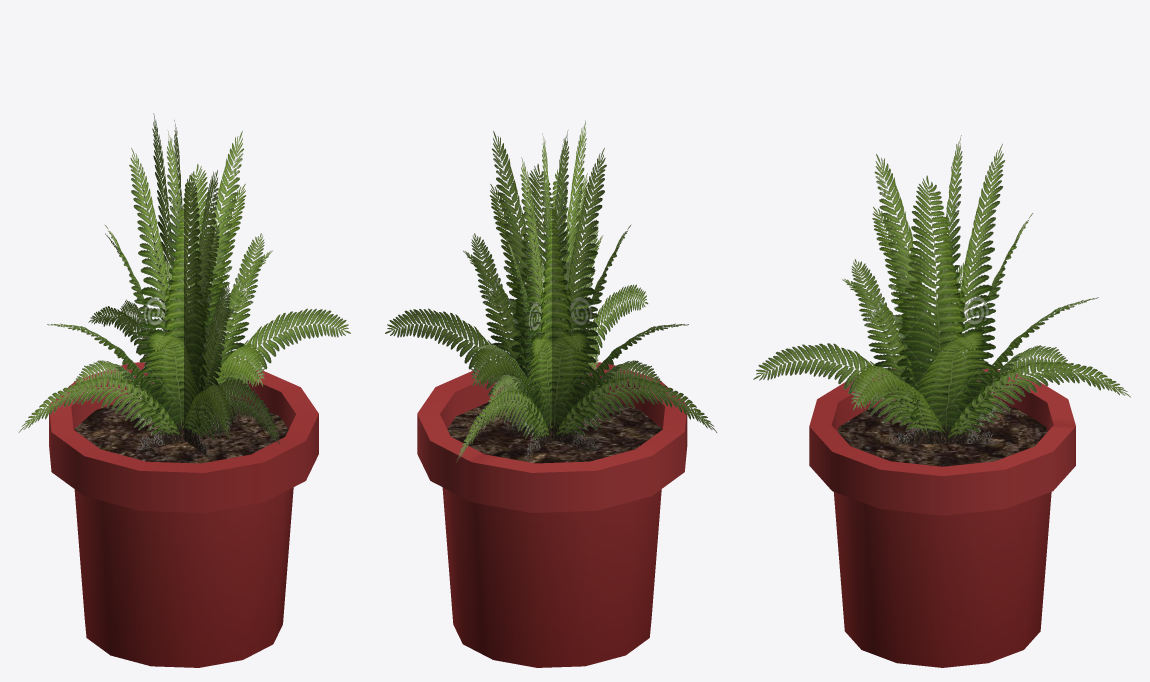
The model's file is Prop_PotPlant.fbx.
The picture shows the model from 3 angles, left to right: view 1: azimuth 30°, elevation 25°; view 2: azimuth 150°, elevation 25°; view 3: azimuth 270°, elevation 25°; orthographic projection.
Visible parts, largest first — view 1: Prop_PotPlant1; view 2: Prop_PotPlant1; view 3: Prop_PotPlant1.
Part boxes in pixels (<box>): Prop_PotPlant1: <box>18,113,350,667</box>; Prop_PotPlant1: <box>385,120,717,667</box>; Prop_PotPlant1: <box>753,135,1130,667</box>.
Size of the model in its own units: 63.01 by 95.74 by 63.01.
